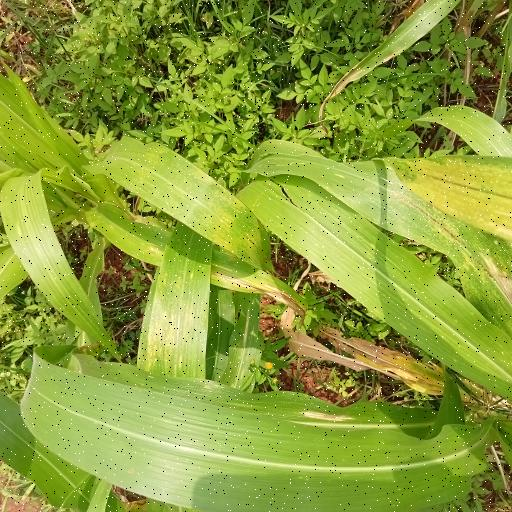Corn_Brown_Spots: (0, 130, 280, 286)
